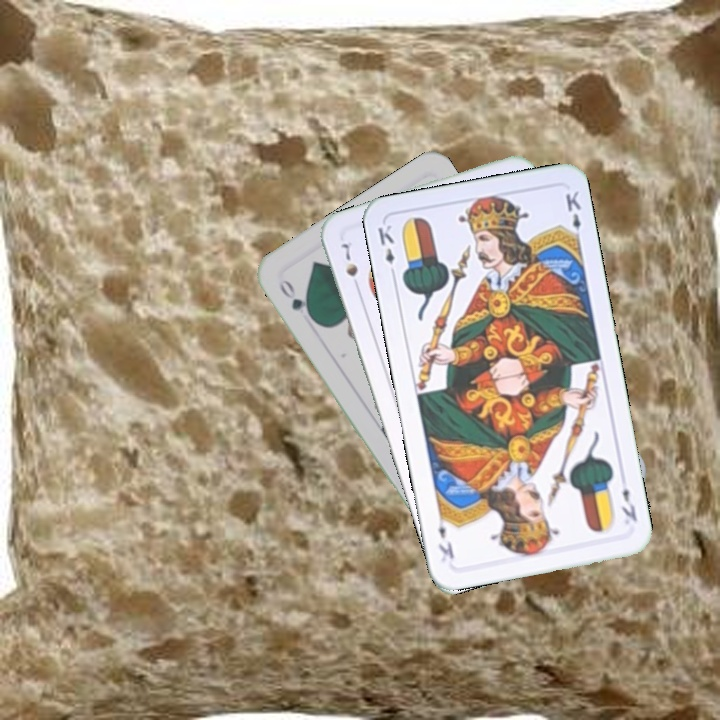EK: (373, 220, 399, 280), (617, 484, 640, 524)
GO: (274, 275, 317, 324)
S7: (337, 239, 363, 294)
